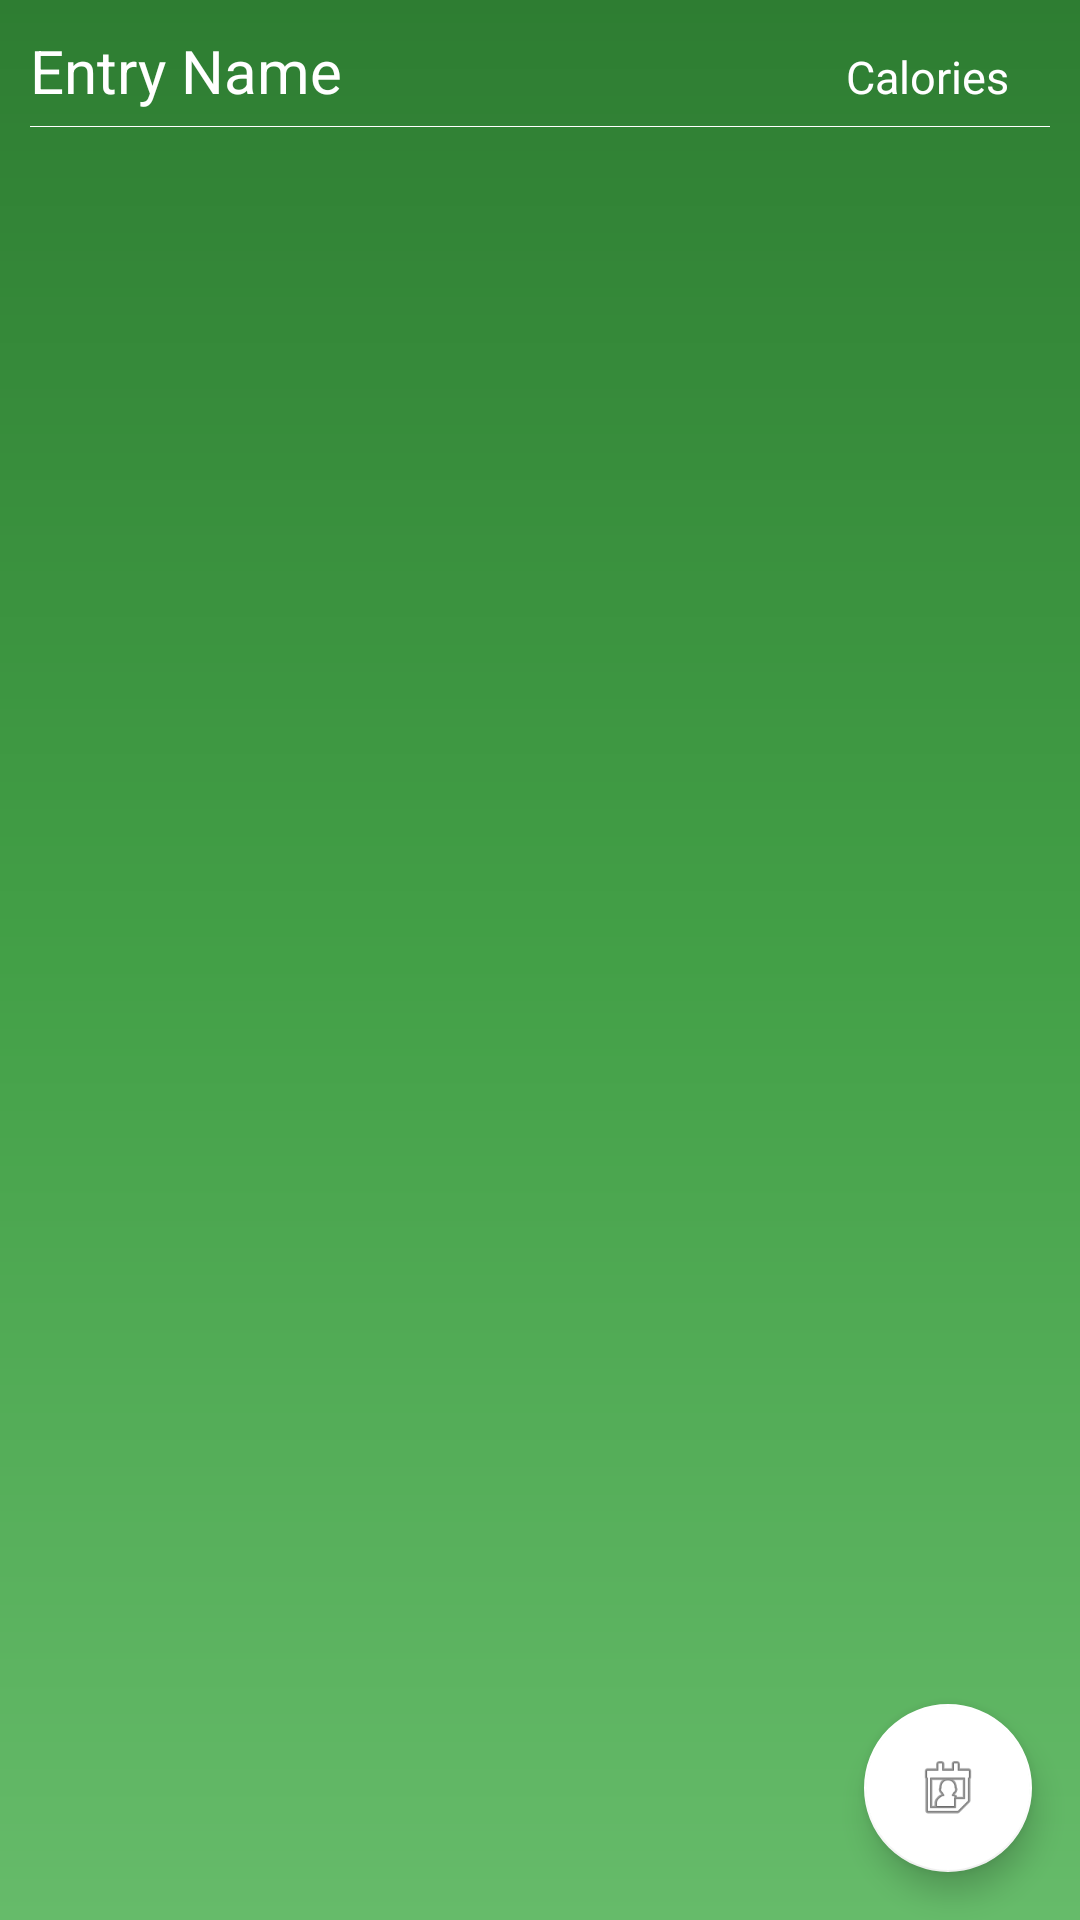

Icons on this 1080px×1920px Android screen, each with its box as (x1, y1, x2, y2):
calendar: (864, 1704, 1032, 1872)
